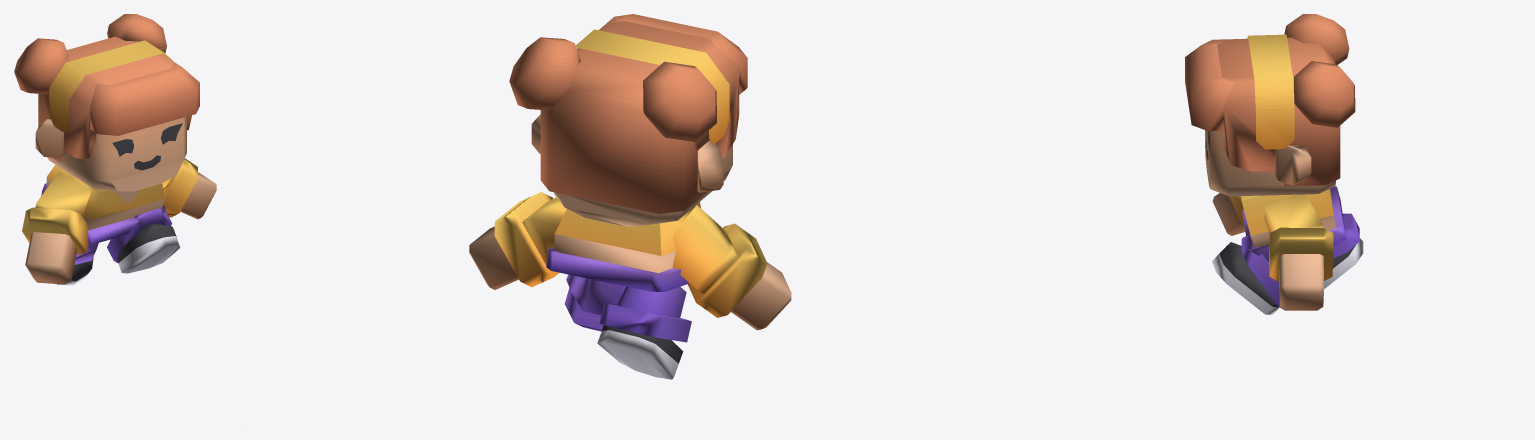
The model's file is crowdB_sprint_1.glb.
3 renders of one model, left to right at view 1: azimuth 30°, elevation 25°; view 2: azimuth 150°, elevation 25°; view 3: azimuth 270°, elevation 25°, orthographic. The views are drawn at different scales.
Parts seen in each view (by area): view 1: crowdB-sprint-1; view 2: crowdB-sprint-1; view 3: crowdB-sprint-1.
Part boxes in pixels (x1=…): crowdB-sprint-1: x1=14, y1=14, x2=216, y2=285; crowdB-sprint-1: x1=469, y1=14, x2=791, y2=379; crowdB-sprint-1: x1=1185, y1=14, x2=1363, y2=314.
Size of the model in its own units: 1.2 by 0.8038 by 1.2.
1 material, 1 textured.
